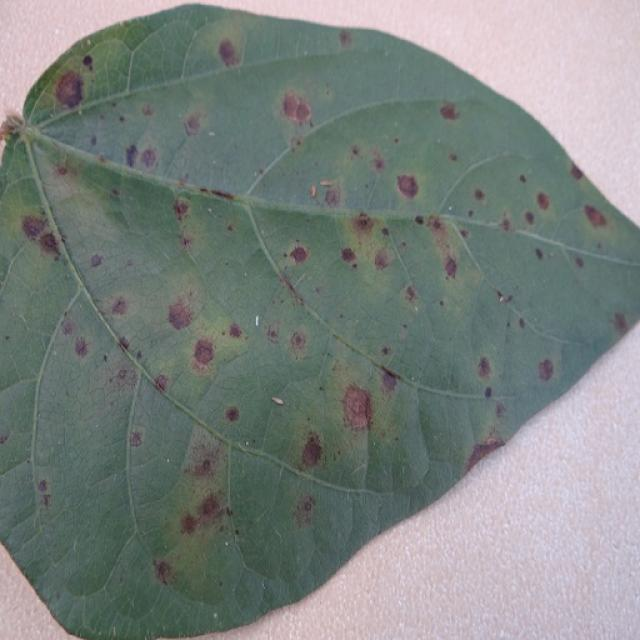Anthracnose: (74, 92, 177, 180), (254, 257, 330, 364), (48, 508, 129, 604), (154, 506, 233, 600), (312, 132, 404, 211), (375, 375, 431, 494), (548, 199, 634, 276), (129, 17, 207, 88), (50, 190, 125, 262), (183, 305, 253, 379), (0, 172, 60, 258), (337, 211, 401, 288), (269, 80, 331, 156), (70, 38, 138, 105), (0, 377, 44, 478), (324, 374, 388, 441), (188, 15, 252, 73), (21, 465, 63, 537), (418, 213, 461, 282), (181, 485, 231, 544), (181, 430, 229, 491), (175, 194, 209, 258), (101, 354, 139, 398), (464, 435, 506, 472), (97, 292, 137, 325), (54, 69, 86, 110), (276, 267, 307, 308), (167, 297, 196, 331), (292, 495, 316, 530), (300, 436, 324, 469), (284, 241, 312, 269), (192, 339, 215, 367), (583, 204, 608, 229), (154, 560, 174, 586), (282, 92, 300, 120), (184, 113, 203, 135), (324, 184, 341, 208), (439, 101, 460, 120), (180, 514, 198, 536), (381, 369, 398, 392), (538, 358, 554, 382), (370, 149, 386, 172), (477, 356, 491, 379), (613, 312, 628, 333), (74, 337, 89, 358), (340, 247, 357, 265), (153, 374, 169, 393), (536, 191, 550, 211), (266, 323, 280, 343), (61, 318, 75, 336), (129, 430, 143, 447), (570, 163, 584, 180), (228, 323, 243, 338), (56, 162, 69, 176), (499, 217, 511, 232), (524, 211, 535, 225)
Blackgram: (0, 5, 639, 639)
